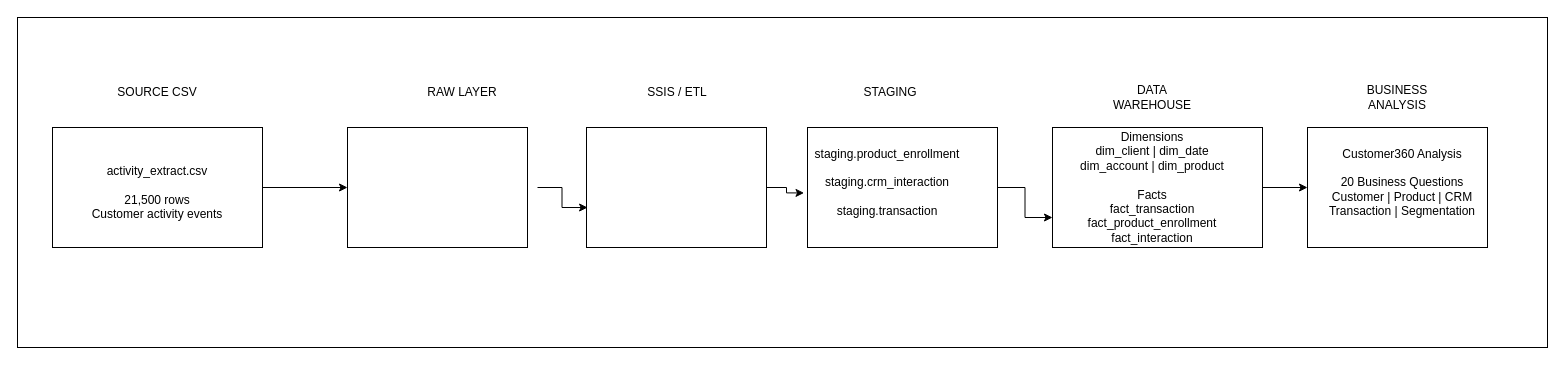
Image size: 1565x365. Some labels were removed from this diagram. Here are the shapes that lost their labels. From the top down, the centre of each, then its label:
At point (437, 187): "source.customer_activity_extract Raw landing table 21,500 rows".
At point (676, 187): "SSIS Package Conditional Split Stored Procedures Data Cleaning".
